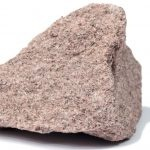obstacle: (0, 4, 141, 140)
